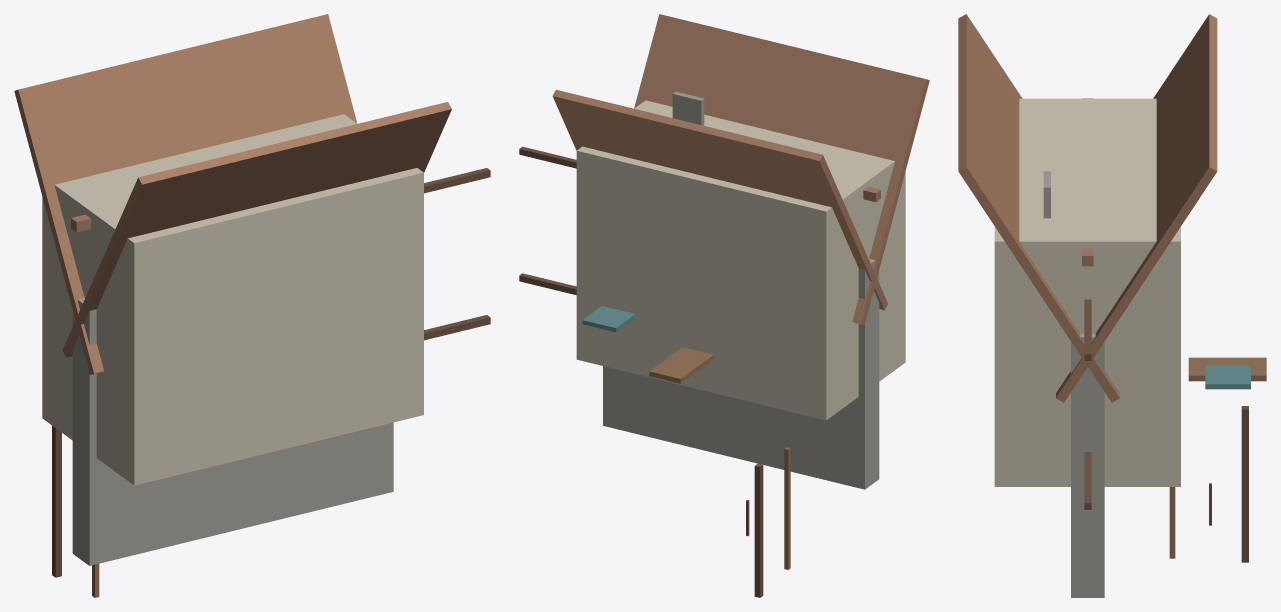
File: inn.glb
The picture shows the model from 3 angles, left to right: view 1: azimuth 30°, elevation 25°; view 2: azimuth 150°, elevation 25°; view 3: azimuth 270°, elevation 25°; orthographic projection. The views are drawn at different scales.
Parts seen in each view (by area): view 1: body, roof_-1, foundation, roof_1, front_post, top_beam, base_beam; view 2: body, roof_1, foundation, roof_-1, door, front_post, chimney_cap, window, stud, base_beam, top_beam; view 3: body, roof_-1, roof_1, foundation, front_post, door, window, stud, top_beam, base_beam.
Boxes of the visible parts, bbox=[...] form: body: bbox=[42, 114, 423, 485]; roof_-1: bbox=[14, 14, 357, 374]; foundation: bbox=[72, 298, 393, 565]; roof_1: bbox=[62, 102, 451, 357]; front_post: bbox=[52, 425, 61, 577]; top_beam: bbox=[424, 168, 490, 193]; base_beam: bbox=[424, 315, 490, 340]; body: bbox=[576, 100, 905, 420]; roof_1: bbox=[634, 14, 929, 324]; foundation: bbox=[603, 258, 879, 489]; roof_-1: bbox=[552, 89, 887, 310]; door: bbox=[649, 347, 713, 383]; front_post: bbox=[754, 464, 763, 597]; chimney_cap: bbox=[672, 91, 704, 125]; window: bbox=[582, 306, 635, 332]; stud: bbox=[784, 447, 790, 569]; base_beam: bbox=[519, 273, 576, 295]; top_beam: bbox=[519, 146, 576, 168]; body: bbox=[994, 98, 1180, 486]; roof_-1: bbox=[1056, 14, 1217, 402]; roof_1: bbox=[958, 14, 1119, 402]; foundation: bbox=[1071, 333, 1104, 597]; front_post: bbox=[1241, 406, 1248, 562]; door: bbox=[1188, 357, 1266, 381]; window: bbox=[1205, 365, 1250, 389]; stud: bbox=[1169, 487, 1175, 558]; top_beam: bbox=[1084, 299, 1091, 360]; base_beam: bbox=[1084, 452, 1091, 509].
Size of the model in its own units: 14.33 by 16.92 by 9.11.
